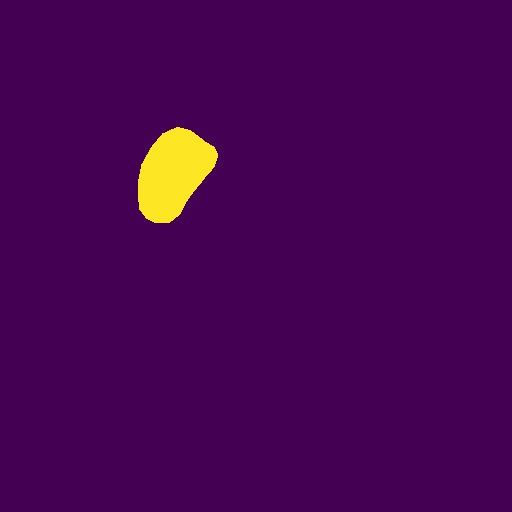Menigiomia_tumour: (138, 127, 218, 223)
